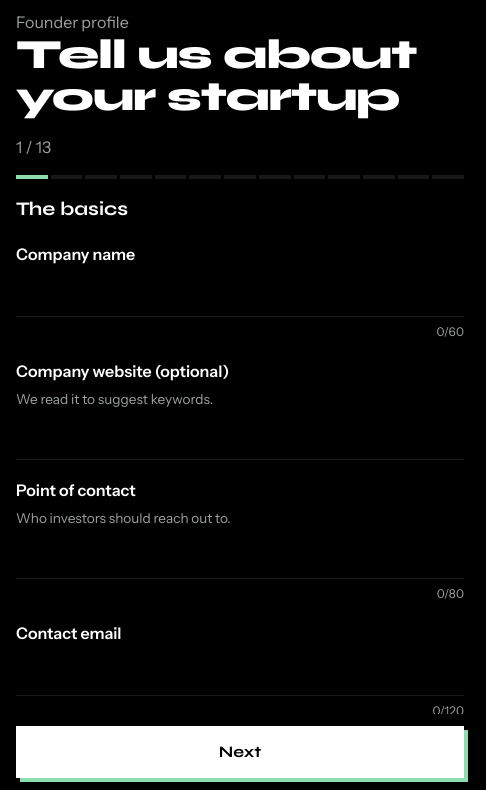
Scenario: Screening › advances valid basics to the values step, and updates the progress bar
Step 1. Type "Acme" into the field labelled "Company name" → (240, 294), box [16, 272, 464, 317]
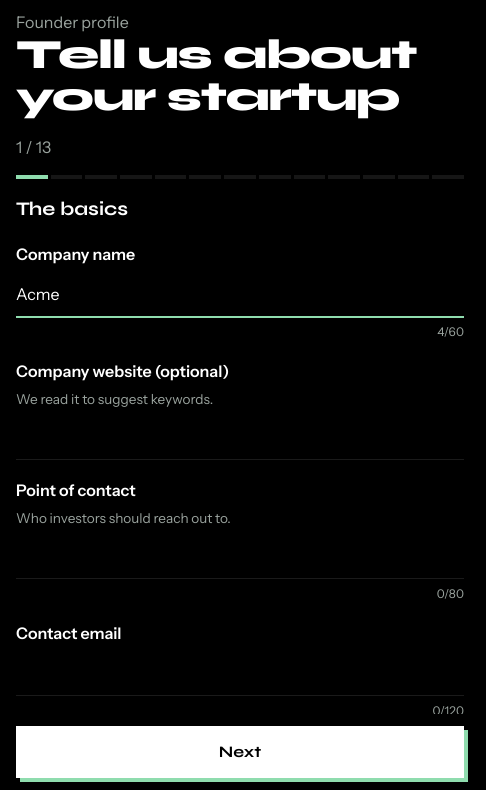
Step 2. Type "Ada Lovelace" into the field labelled "Point of contact" → (240, 557), box [16, 534, 464, 579]
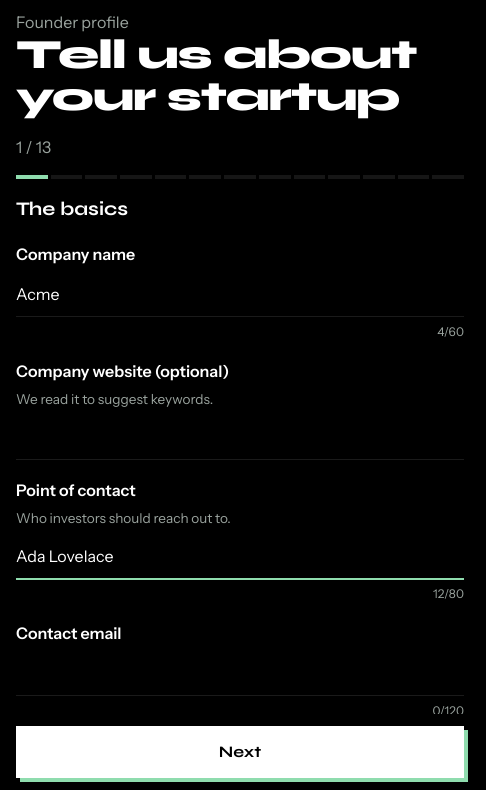
Step 3. Type "ada@acme.example" into the field labelled "Contact email" → (240, 674), box [16, 651, 464, 696]
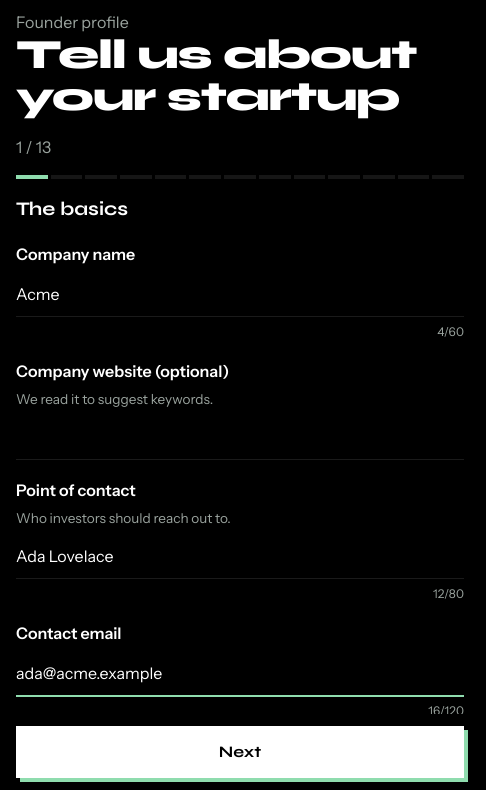
Step 4. Click the button "Next" → (240, 752), box [16, 726, 464, 778]
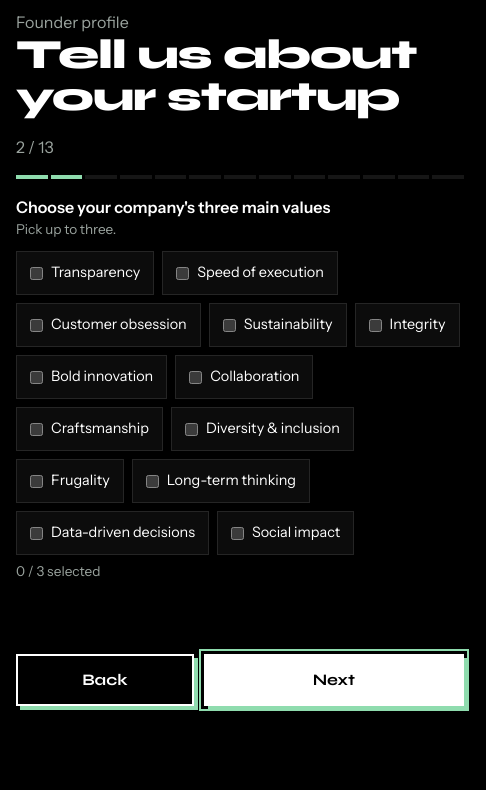
expect the text "2 / 13" is shown: met, box [16, 137, 54, 157]
expect the element "Choose your company's three main values" is shown: met, box [16, 195, 464, 582]
